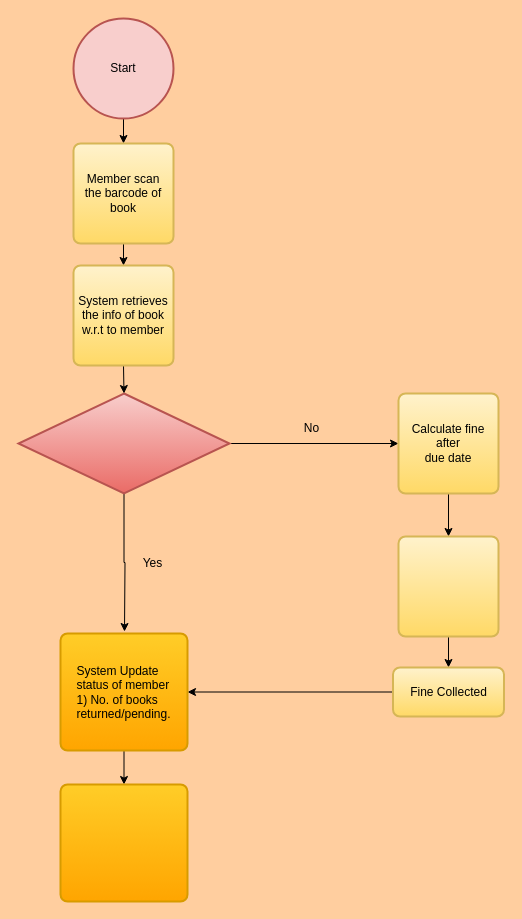
Some shapes in this 522 by 919 pixel diagram are drawn without their labels. The shapes that lost their labels are listed below. From the top down, each one's centre as x and y in pixels, then its label:
point 123,443: System checks whether the book is returned within due date ?
point 448,586: Transaction can be made through google pay/ Paytm etc
point 123,842: System update status of the book as "Reservation available"
